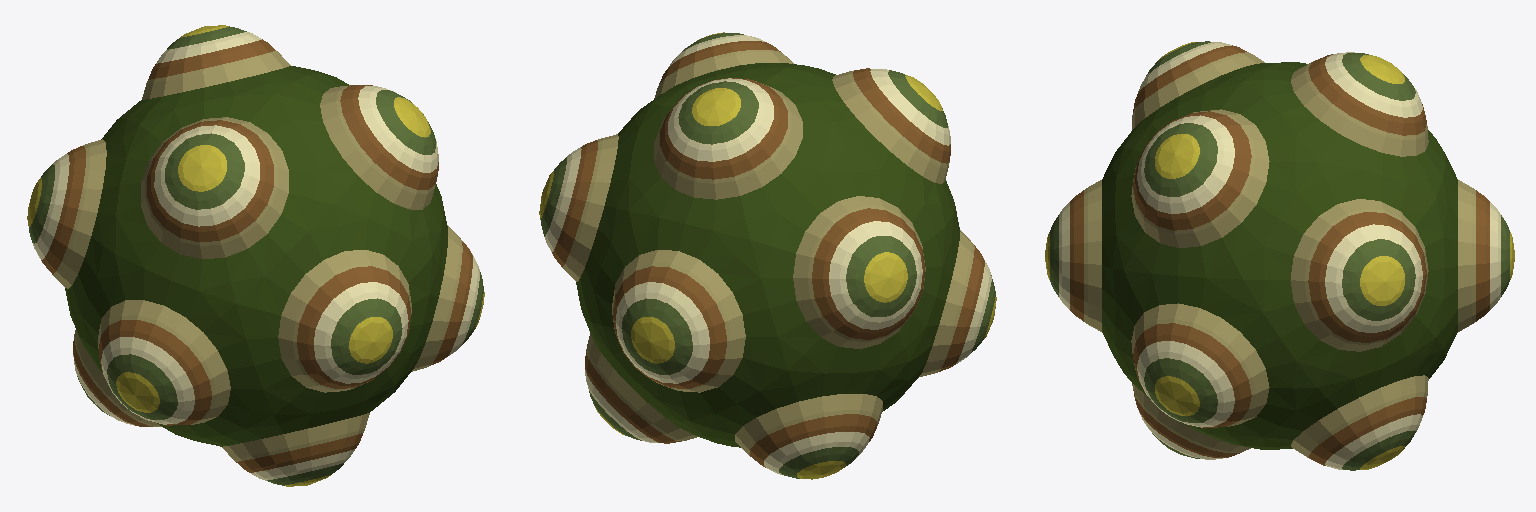
The picture shows the model from 3 angles: view 1: azimuth 30°, elevation 25°; view 2: azimuth 150°, elevation 25°; view 3: azimuth 270°, elevation 25°; orthographic projection.
Parts seen in each view (by area): view 1: core_04_0; view 2: core_04_0; view 3: core_04_0.
Part boxes in pixels (x1,y1,x2,y2): core_04_0: (27,25,484,486); core_04_0: (539,32,996,479); core_04_0: (1045,41,1514,470).
Bounding box in the file's own units: 0.0478 × 0.0494 × 0.0537.
Materials: 1 (1 with a texture image).